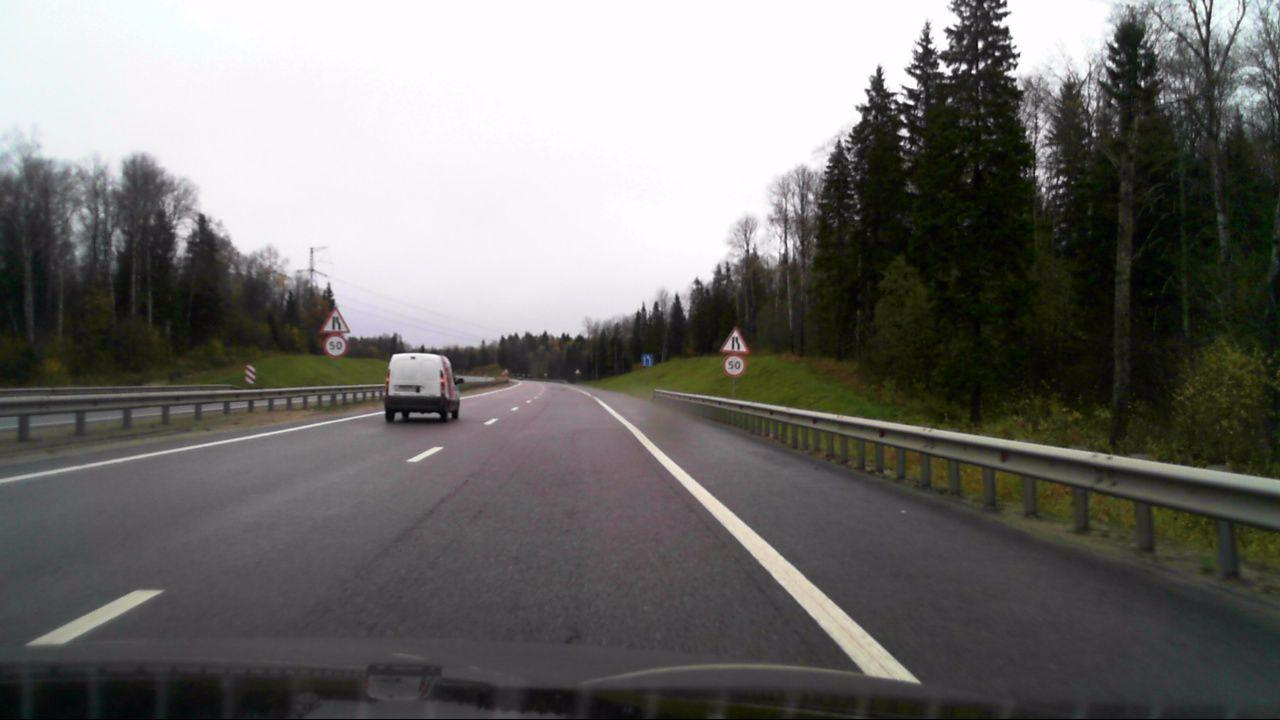1_20_2: (718, 324, 754, 354), (321, 307, 349, 334)
3_24: (322, 335, 349, 357), (721, 355, 747, 376)
5_15_5: (641, 353, 654, 367)
